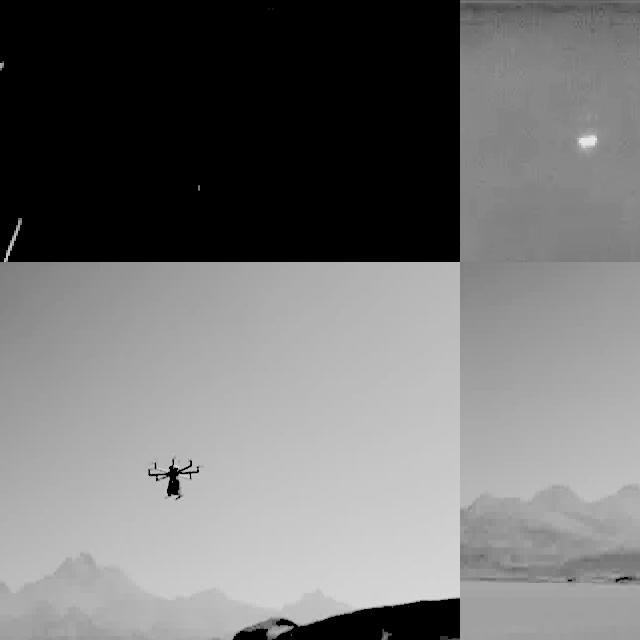0: (190, 174, 212, 210)
1: (571, 130, 607, 160)
drone: (146, 448, 203, 506)
